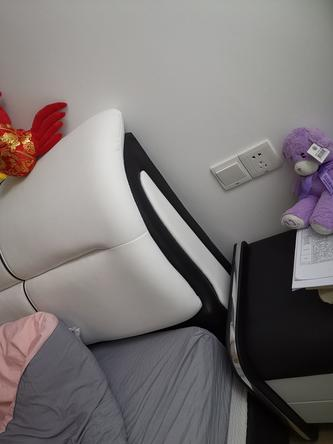switch: (211, 156, 246, 187)
